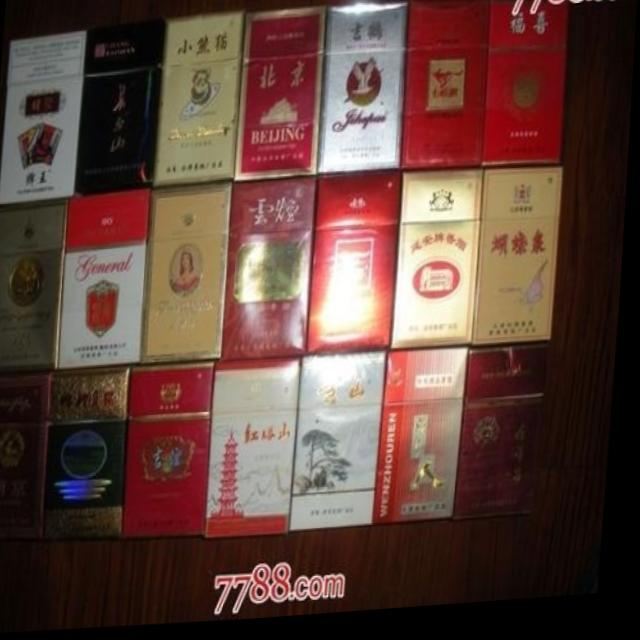box: (459, 350, 558, 528), (295, 357, 391, 539), (378, 353, 474, 533), (310, 177, 404, 360), (58, 189, 153, 369), (226, 181, 318, 363), (393, 176, 485, 357), (212, 362, 305, 541), (144, 182, 234, 365), (126, 364, 219, 541), (154, 13, 246, 189), (476, 174, 564, 355), (236, 10, 326, 184), (76, 22, 165, 196), (47, 365, 133, 541), (0, 30, 86, 204), (319, 7, 407, 177), (402, 5, 487, 176), (484, 7, 568, 174), (0, 199, 71, 369), (0, 372, 57, 543)
